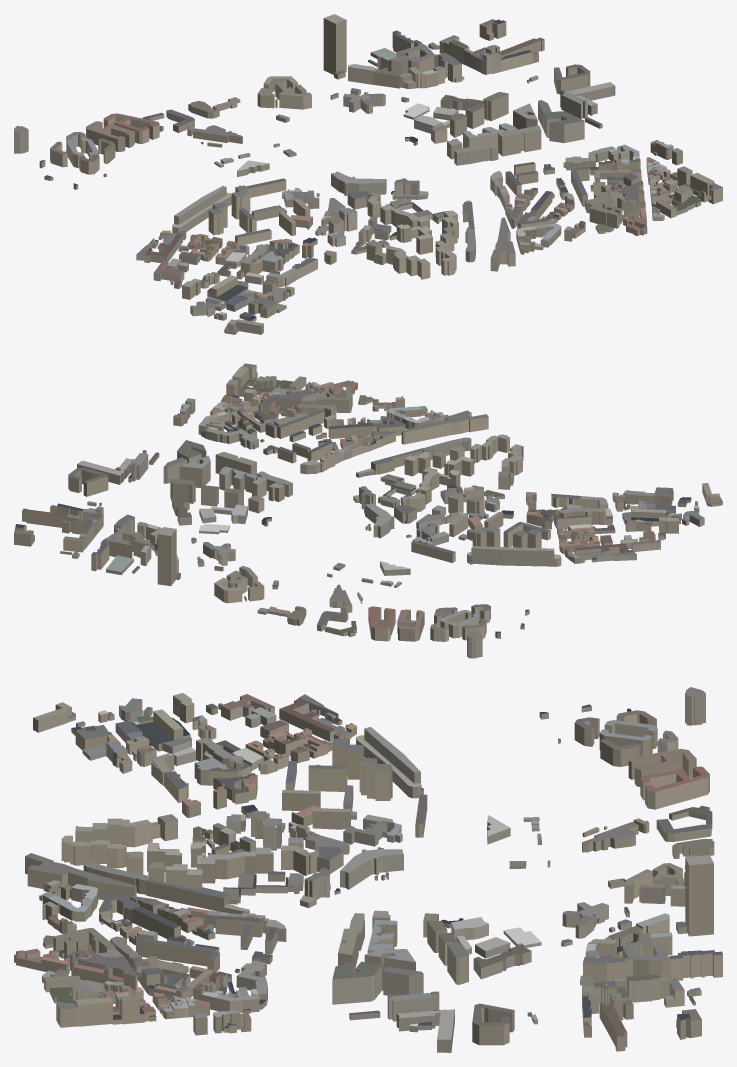
3 renders of one model, top to bottom at view 1: azimuth 30°, elevation 25°; view 2: azimuth 150°, elevation 25°; view 3: azimuth 270°, elevation 25°, orthographic. The views are drawn at different scales.
Parts seen in each view (by area): view 1: tuile; view 2: tuile; view 3: tuile.
Part boxes in pixels (<box>): tuile: <box>14,14,722,334</box>; tuile: <box>14,363,722,658</box>; tuile: <box>14,687,722,1052</box>.
Bounding box in the file's own units: 1072 × 116 × 901.
